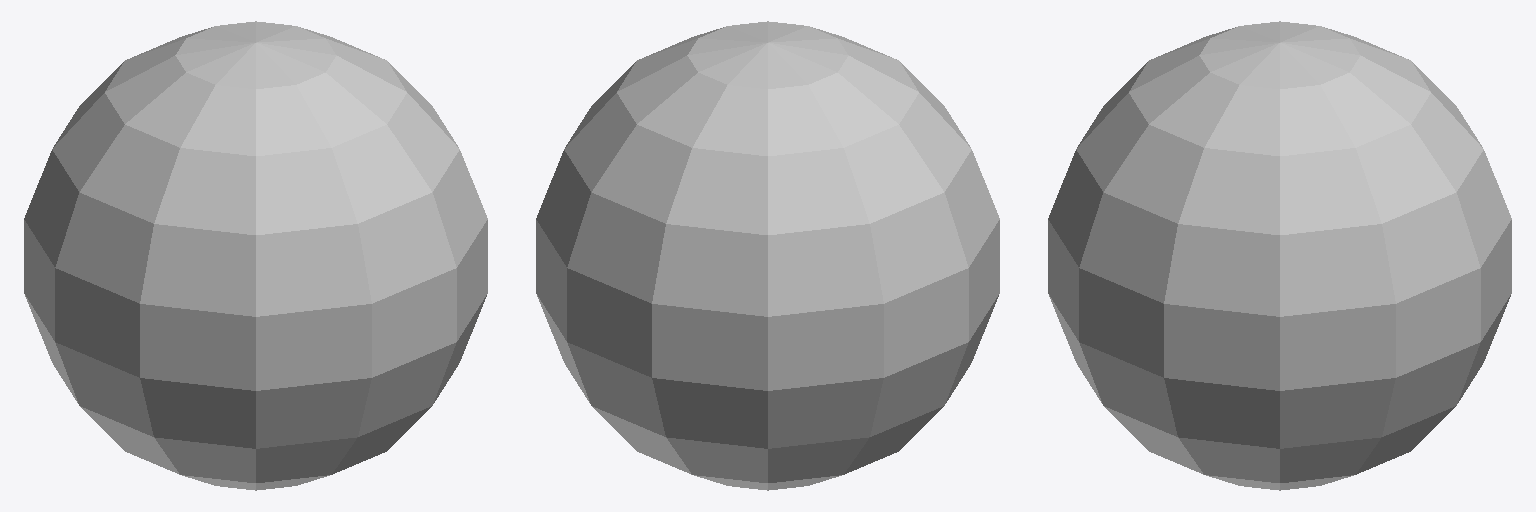
File: sphereHi.obj
3 renders of one model, left to right at view 1: azimuth 30°, elevation 25°; view 2: azimuth 150°, elevation 25°; view 3: azimuth 270°, elevation 25°, orthographic.
Visible parts, largest first — view 1: Sphere_Sphere.001; view 2: Sphere_Sphere.001; view 3: Sphere_Sphere.001.
Boxes of the visible parts, x1=… form: Sphere_Sphere.001: x1=24, y1=21, x2=487, y2=490; Sphere_Sphere.001: x1=536, y1=21, x2=999, y2=490; Sphere_Sphere.001: x1=1048, y1=21, x2=1511, y2=490.
Bounding box in the file's own units: 1.97 × 2 × 1.97.